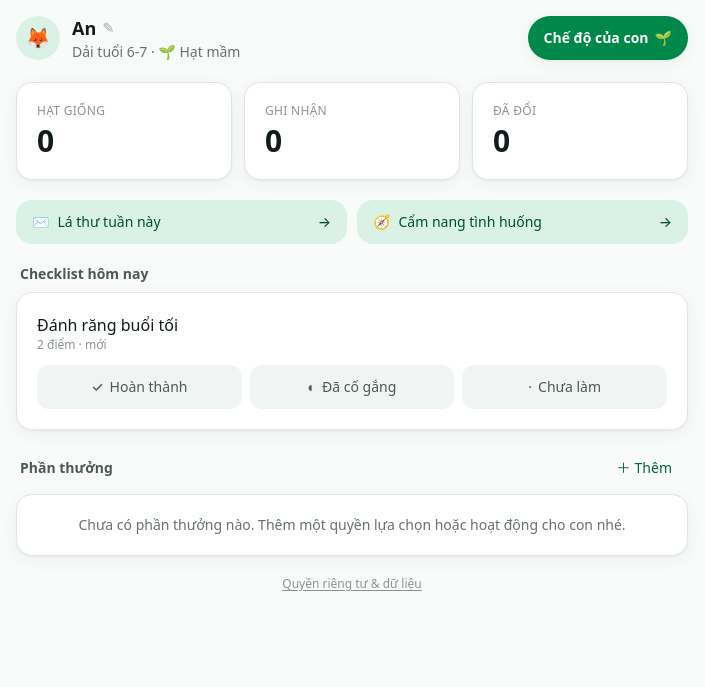
it: ParentDashboard — parent self-regulation micro-pause › shows a calm in-place pause when the parent logs not_yet
Check: the text "Một nhịp cho bố mẹ" is not shown
Click the button "· Chưa làm" at (565, 387), box [462,365,667,409]
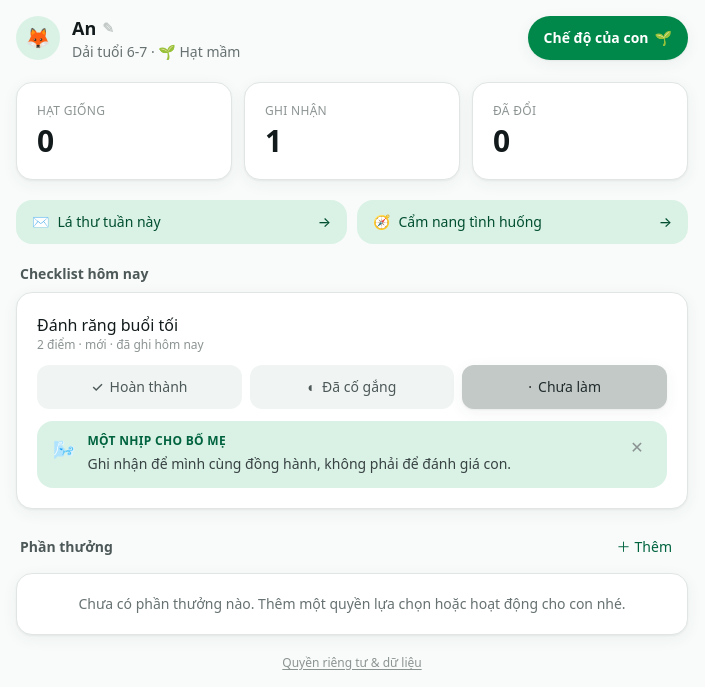
Check: the text "Một nhịp cho bố mẹ" is shown, box [88,432,226,449]
